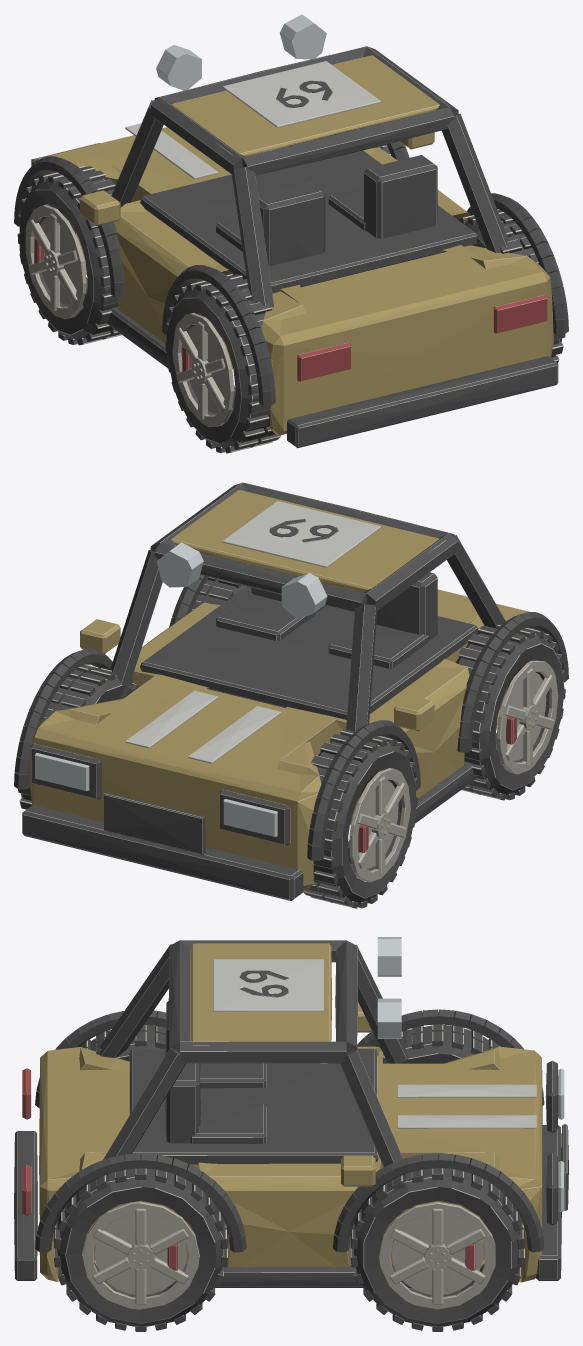
The model's file is car_buggy.glb.
3 renders of one model, top to bottom at view 1: azimuth 30°, elevation 25°; view 2: azimuth 150°, elevation 25°; view 3: azimuth 270°, elevation 25°, orthographic.
Visible parts, largest first — view 1: Body.007, WheelMesh.030, WheelMesh.028, WheelMesh.031; view 2: Body.007, WheelMesh.028, WheelMesh.030, WheelMesh.029, WheelMesh.031; view 3: Body.007, WheelMesh.029, WheelMesh.031, WheelMesh.028, WheelMesh.030.
Part boxes in pixels (x1=…): Body.007: x1=14, y1=14, x2=568, y2=448; WheelMesh.030: x1=165, y1=274, x2=280, y2=453; WheelMesh.028: x1=17, y1=166, x2=121, y2=345; WheelMesh.031: x1=458, y1=209, x2=565, y2=362; Body.007: x1=14, y1=482, x2=568, y2=900; WheelMesh.028: x1=303, y1=729, x2=417, y2=908; WheelMesh.030: x1=455, y1=624, x2=565, y2=800; WheelMesh.029: x1=18, y1=664, x2=138, y2=809; WheelMesh.031: x1=191, y1=577, x2=245, y2=610; Body.007: x1=14, y1=937, x2=568, y2=1287; WheelMesh.029: x1=350, y1=1153, x2=524, y2=1331; WheelMesh.031: x1=54, y1=1153, x2=227, y2=1331; WheelMesh.028: x1=378, y1=1024, x2=499, y2=1063; WheelMesh.030: x1=80, y1=1024, x2=165, y2=1061.
Size of the model in its own units: 2.64 by 2.11 by 3.71.
